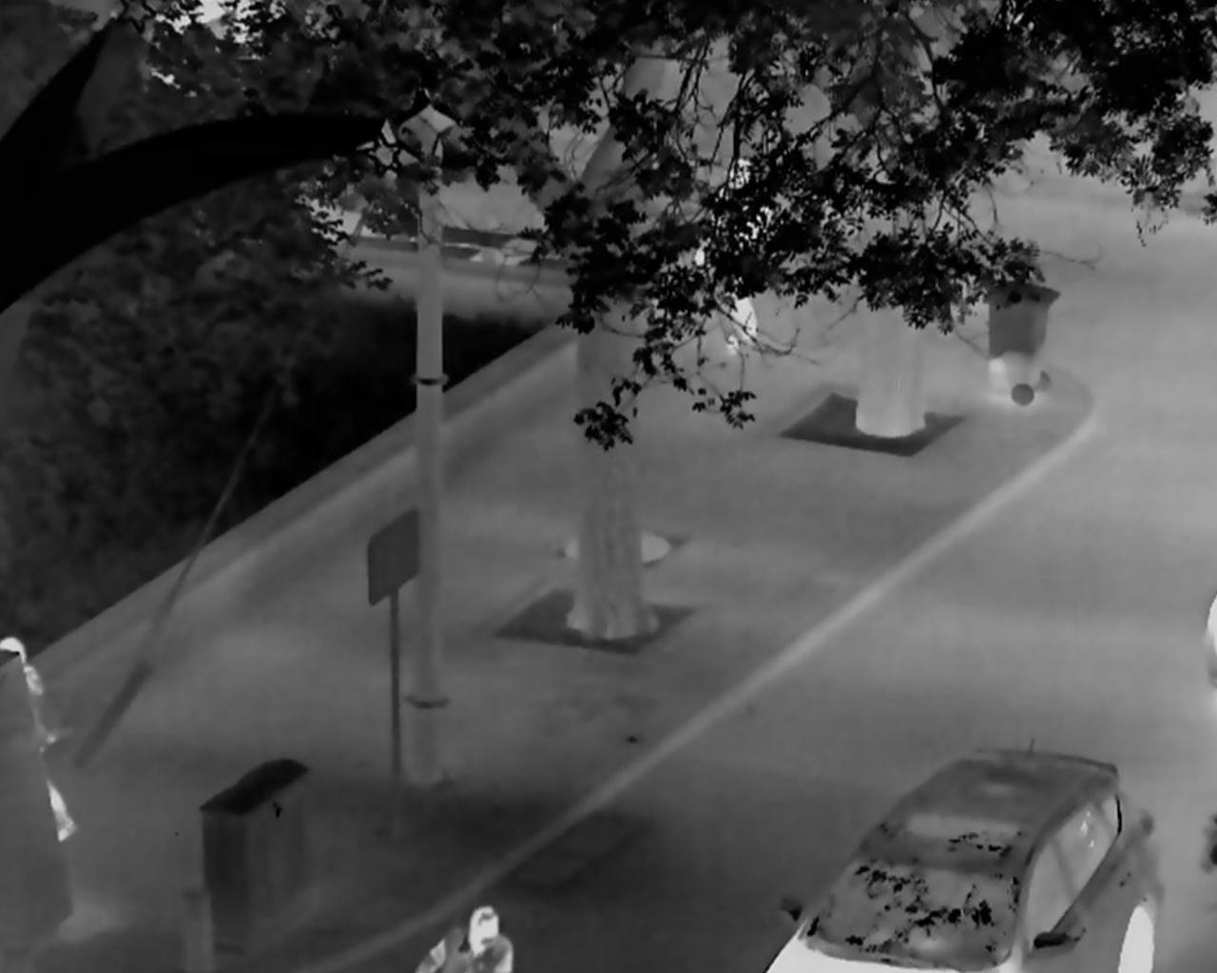person: (693, 155, 771, 354), (412, 904, 512, 973)
